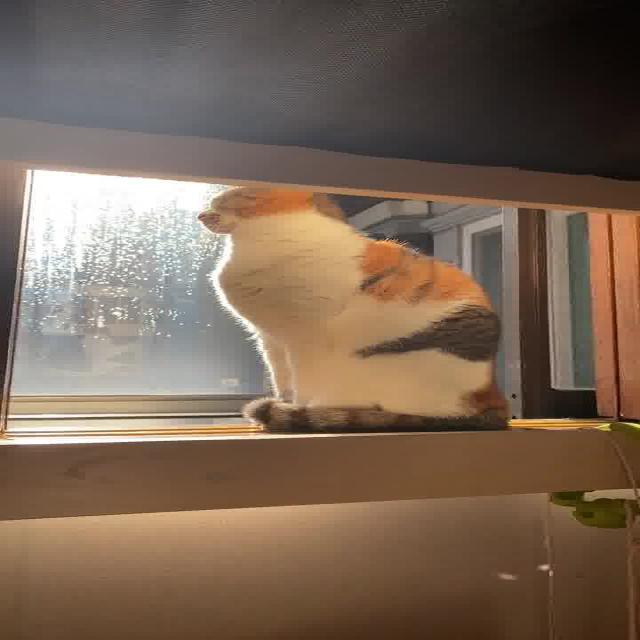cat: (185, 144, 541, 446)
